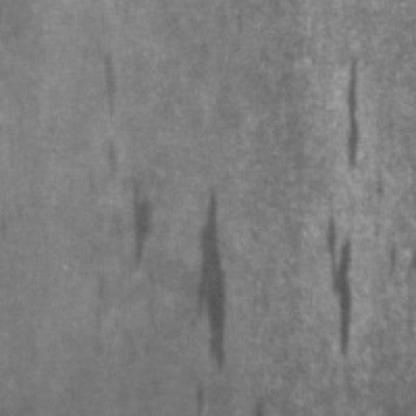inclusion: (175, 183, 237, 381), (85, 116, 156, 274), (310, 195, 362, 377), (318, 50, 370, 175), (85, 43, 123, 123)
